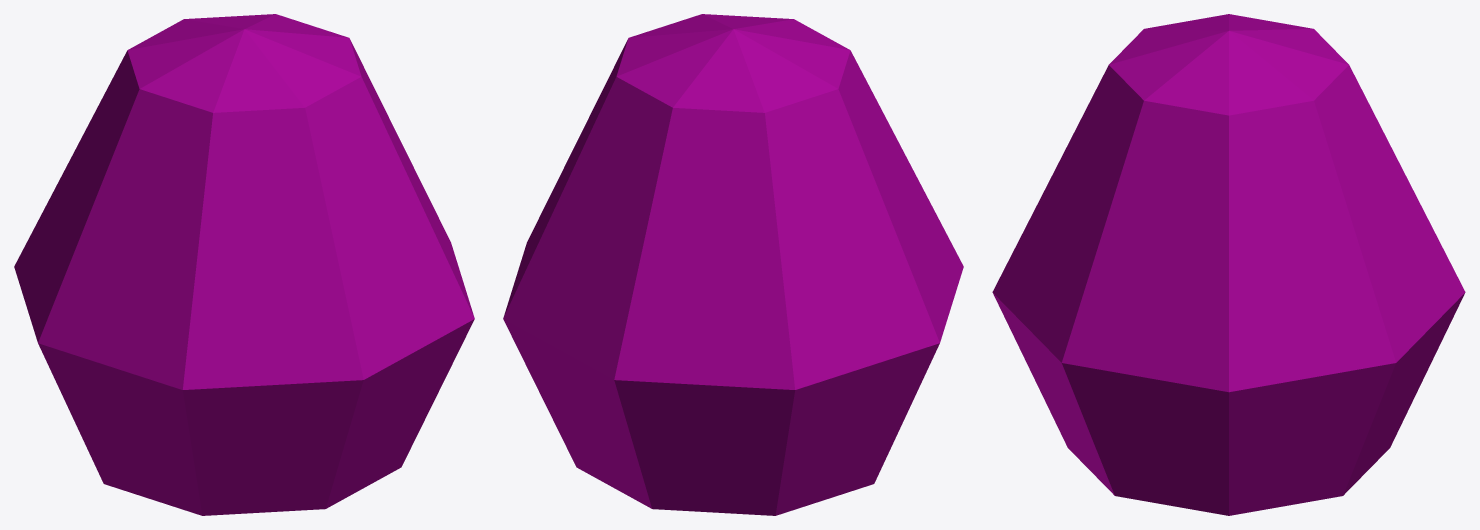
File: Collider_Small_Cactus_001.fbx
3 renders of one model, left to right at view 1: azimuth 30°, elevation 25°; view 2: azimuth 150°, elevation 25°; view 3: azimuth 270°, elevation 25°, orthographic.
Parts seen in each view (by area): view 1: Collider_Small_Cactus_001; view 2: Collider_Small_Cactus_001; view 3: Collider_Small_Cactus_001.
Boxes of the visible parts, x1,y1,x2,y2 form: Collider_Small_Cactus_001: [14, 14, 474, 515]; Collider_Small_Cactus_001: [503, 14, 963, 515]; Collider_Small_Cactus_001: [992, 14, 1465, 515].
Bounding box in the file's own units: 1.28 × 1.25 × 1.28.
